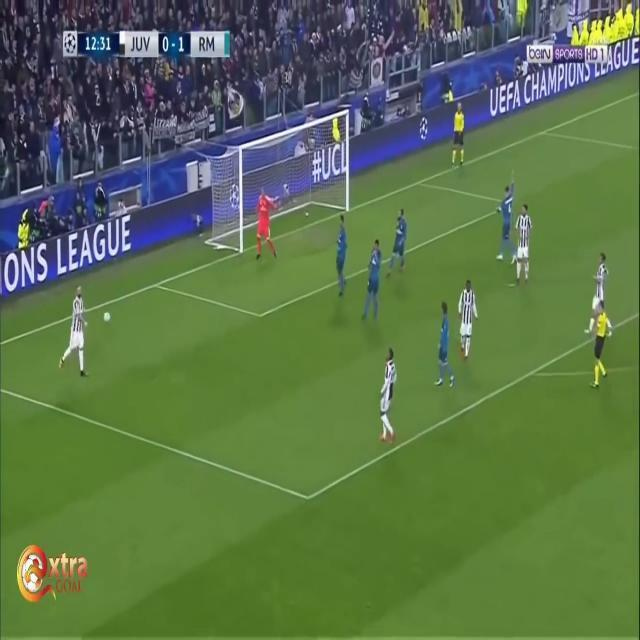ball: (102, 307, 115, 327)
goalkeeper: (250, 182, 281, 268)
player: (370, 347, 400, 450), (430, 290, 458, 400), (62, 282, 87, 384), (459, 271, 481, 376), (334, 209, 355, 316), (511, 191, 533, 293), (362, 232, 385, 329), (388, 202, 412, 288), (494, 181, 518, 265), (589, 244, 613, 323)
referee: (447, 100, 477, 175), (592, 299, 615, 388)
